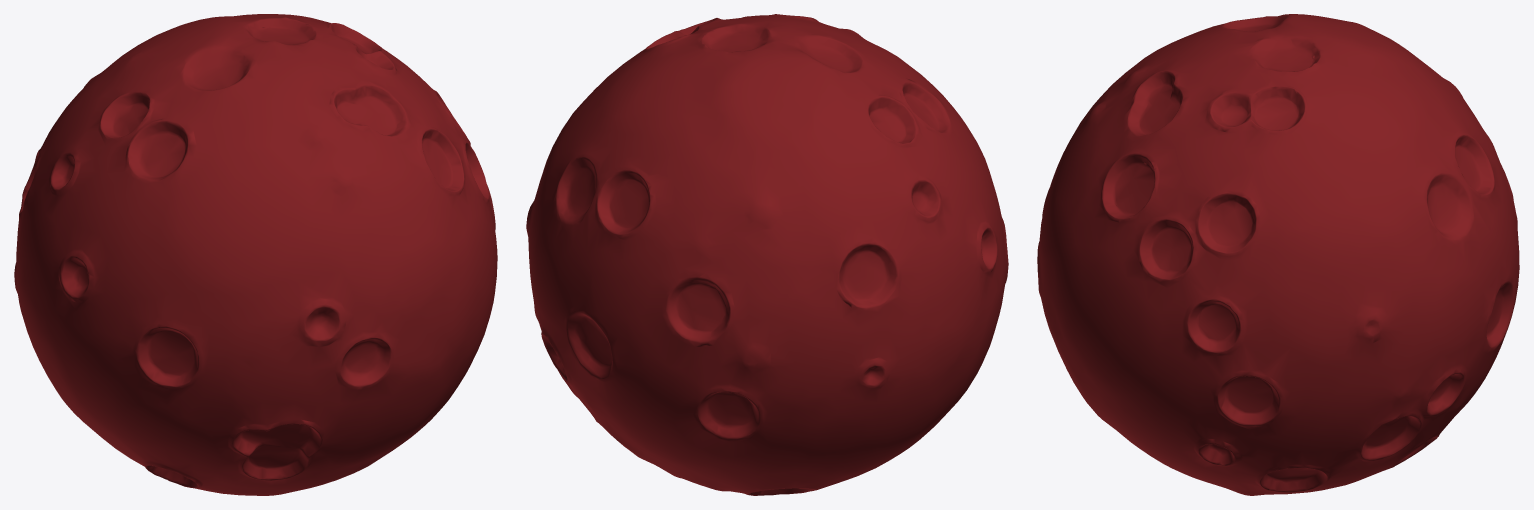
Rendered from Planet_V1.fbx.
3 views of the same model, side by side, from view 1: azimuth 30°, elevation 25°; view 2: azimuth 150°, elevation 25°; view 3: azimuth 270°, elevation 25° (orthographic).
Parts seen in each view (by area): view 1: Sphere; view 2: Sphere; view 3: Sphere.
Boxes of the visible parts, bbox=[...] form: Sphere: bbox=[14, 14, 497, 495]; Sphere: bbox=[526, 14, 1008, 495]; Sphere: bbox=[1037, 14, 1519, 495].
Bounding box in the file's own units: 2532 × 2539 × 2533.
